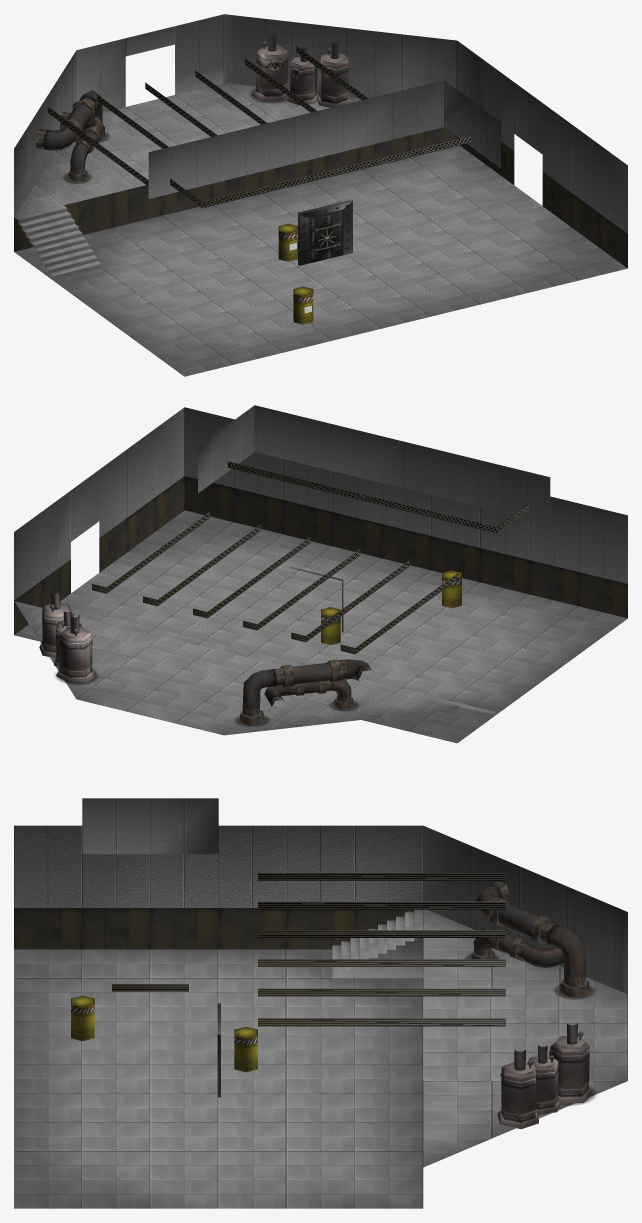
Rendered from room_17.glb.
3 views of the same model, one above another, from view 1: azimuth 30°, elevation 25°; view 2: azimuth 150°, elevation 25°; view 3: azimuth 270°, elevation 25° (orthographic). The views are drawn at different scales.
Visible parts, largest first — view 1: floor, walls, TopCeiling, floor2, platform_wall, stairs, VaultDoorCover, Lights6, SmallBoiler2, SmallBoiler5, gagTank1 (×2), SmallBoiler4 (+3 smaller); view 2: floor, walls, floor2, TopCeiling, Lights6, SmallBoiler2, gagTank1 (×2), LargePipe2Elbow2, SmallBoiler5, LongLights_Lights6, LongLights_Lights4, Lights2 (+5 smaller); view 3: floor, walls, floor2, TopCeiling, SmallBoiler5, SmallBoiler2, LongLights_Lights4, Lights1, Lights2, stairs, gagTank1 (×2), LongLights_Lights1 (+9 smaller).
Part boxes in pixels (x1,y1,x2,y2): floor: (14, 145, 627, 376); walls: (14, 14, 627, 268); TopCeiling: (148, 80, 500, 198); floor2: (14, 83, 361, 217); platform_wall: (14, 127, 457, 251); stairs: (15, 205, 101, 279); VaultDoorCover: (298, 199, 352, 265); Lights6: (170, 136, 470, 208); SmallBoiler2: (252, 33, 289, 101); SmallBoiler5: (317, 41, 351, 107); gagTank1 (×2): (278, 224, 313, 324); SmallBoiler4: (287, 46, 318, 105); floor: (14, 510, 627, 743); walls: (14, 407, 627, 634); floor2: (14, 601, 455, 735); TopCeiling: (198, 405, 550, 523); Lights6: (227, 461, 528, 533); SmallBoiler2: (56, 615, 95, 682); gagTank1 (×2): (321, 570, 461, 644); LargePipe2Elbow2: (242, 668, 284, 716); SmallBoiler5: (39, 592, 73, 657); LongLights_Lights6: (340, 573, 458, 654); LongLights_Lights4: (291, 560, 408, 642); Lights2: (92, 512, 209, 593); floor: (14, 949, 423, 1208); walls: (14, 825, 627, 994); floor2: (423, 909, 627, 1167); TopCeiling: (82, 798, 218, 854); SmallBoiler5: (497, 1050, 538, 1129); SmallBoiler2: (549, 1022, 592, 1103); LongLights_Lights4: (258, 901, 505, 909); Lights1: (258, 988, 505, 996); Lights2: (258, 1018, 505, 1026); stairs: (332, 909, 423, 974); gagTank1 (×2): (71, 995, 257, 1072); LongLights_Lights1: (258, 959, 505, 966).
Bounding box in the file's own units: 135 × 44.18 × 135.
19 materials, 18 textured.
